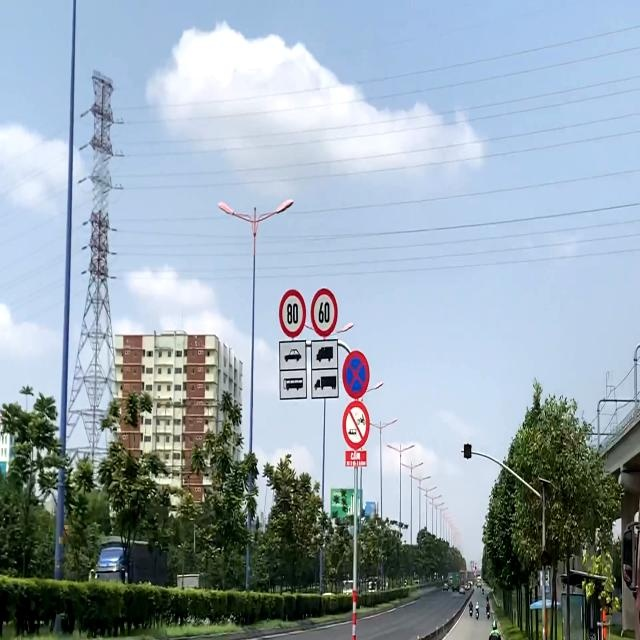bien_cam: (341, 349, 370, 400), (310, 288, 337, 337), (280, 290, 306, 336)
